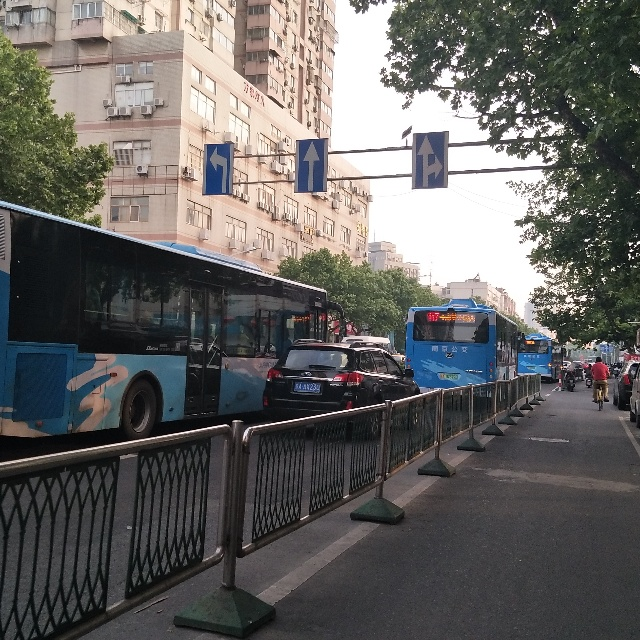left: (202, 143, 234, 195)
straight: (294, 138, 328, 193)
